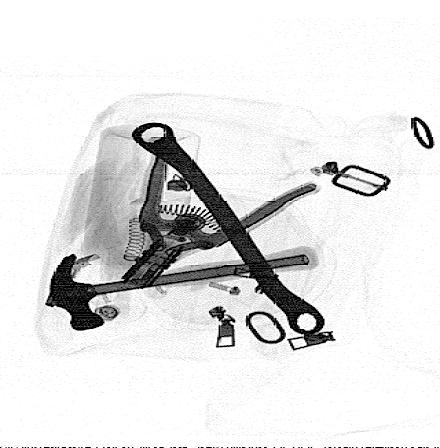Hammer: (49, 243, 321, 332)
Pliers: (118, 133, 319, 291)
Wrench: (129, 120, 326, 337)
